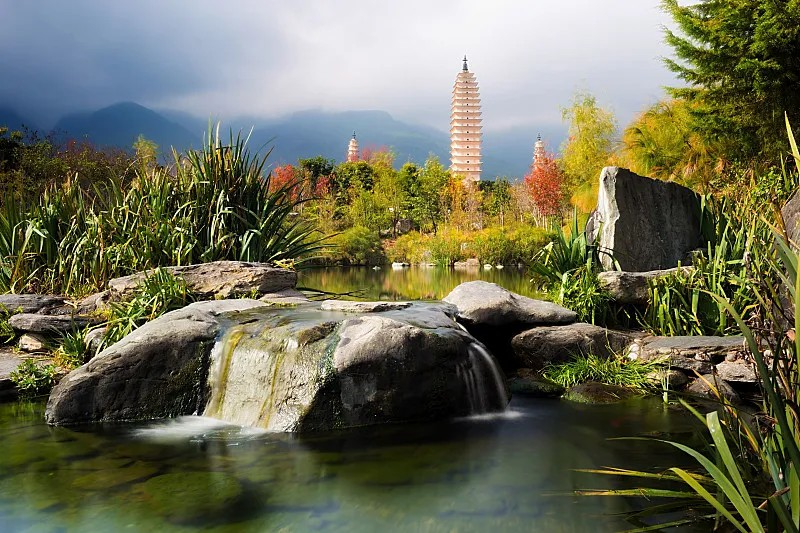ThreePagoda: (448, 54, 483, 182)
